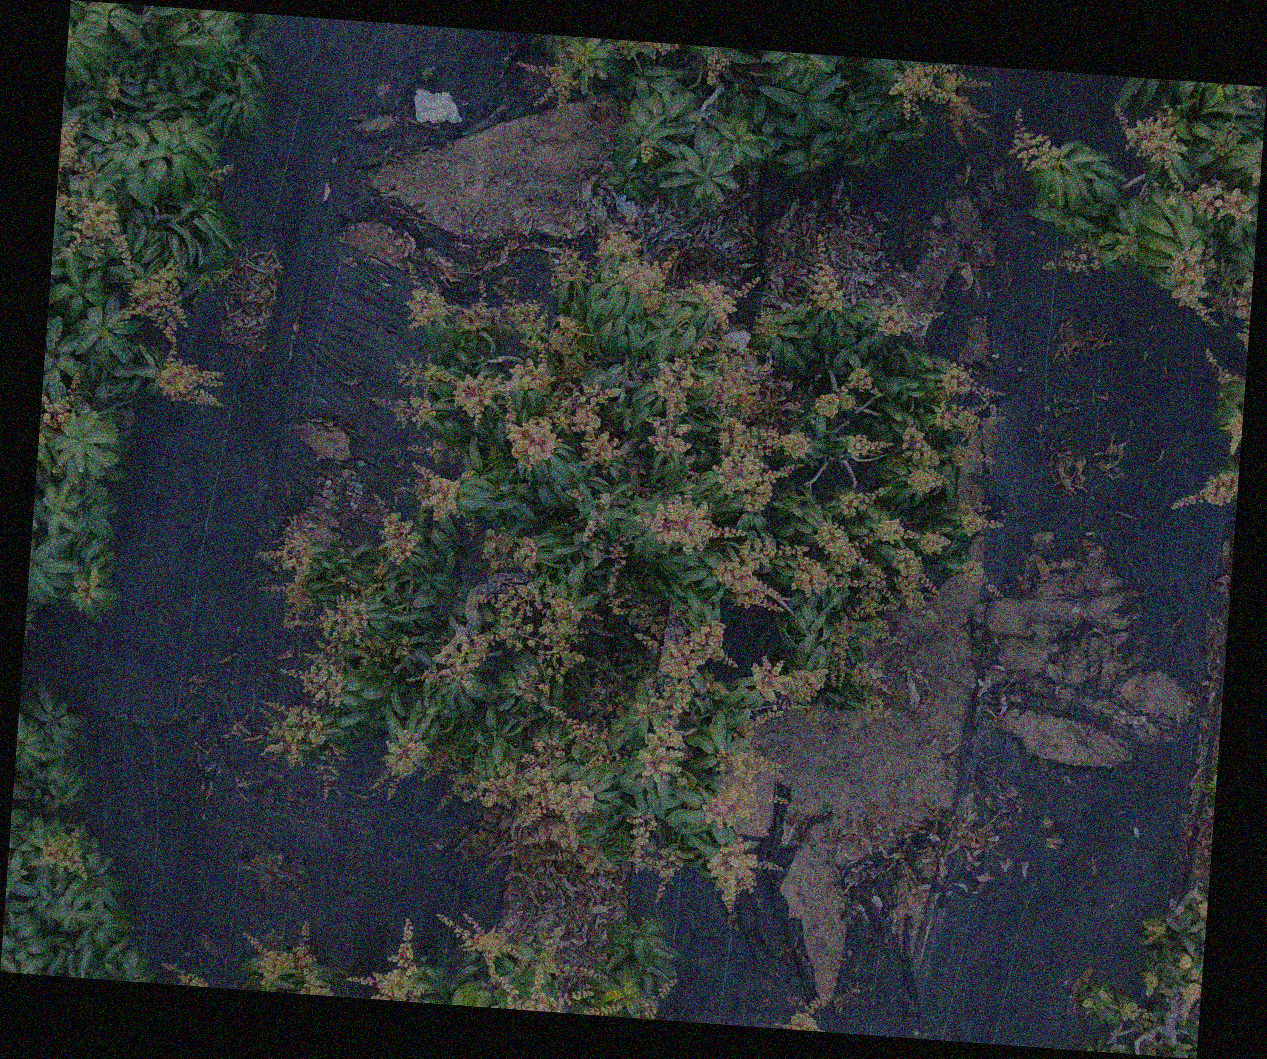flowers: (645, 338, 807, 511), (781, 517, 943, 685), (426, 573, 609, 700), (453, 363, 623, 469), (298, 584, 409, 708), (56, 120, 137, 266), (455, 740, 596, 822), (453, 926, 571, 1010), (888, 63, 989, 141), (242, 921, 343, 993), (350, 917, 426, 1000), (595, 232, 673, 311), (641, 494, 744, 553), (715, 538, 793, 610), (705, 750, 776, 830), (499, 289, 585, 355), (374, 730, 455, 799), (638, 680, 691, 782), (706, 838, 778, 912), (256, 532, 315, 620), (933, 363, 1003, 438), (660, 613, 736, 681), (627, 813, 684, 900), (126, 264, 188, 343), (434, 916, 531, 964), (549, 711, 624, 770), (1114, 107, 1188, 165), (406, 288, 496, 332), (265, 704, 326, 767), (750, 660, 826, 710), (1167, 247, 1216, 322), (687, 275, 755, 329), (815, 367, 882, 420), (159, 352, 224, 404), (609, 584, 668, 639), (1010, 109, 1061, 171), (901, 427, 946, 494), (516, 62, 579, 109), (1184, 180, 1254, 221), (869, 520, 950, 554), (37, 827, 89, 878), (40, 375, 77, 446), (413, 465, 461, 518), (812, 235, 846, 309), (59, 118, 93, 191), (481, 531, 538, 572), (380, 511, 420, 565), (876, 305, 939, 337), (369, 396, 435, 426), (551, 247, 587, 292), (958, 502, 1004, 536), (638, 977, 675, 1019), (839, 486, 886, 519), (1060, 242, 1102, 274), (1200, 469, 1236, 505), (614, 41, 679, 61), (584, 492, 609, 543), (1203, 349, 1240, 384), (407, 438, 458, 463), (1176, 954, 1202, 1001), (1234, 275, 1250, 349), (845, 435, 889, 461), (161, 963, 209, 985), (1212, 118, 1240, 157), (1029, 197, 1067, 224), (1221, 85, 1261, 109), (1140, 915, 1168, 946), (706, 49, 729, 86), (1222, 412, 1241, 454), (200, 266, 233, 291), (852, 662, 883, 687), (753, 309, 780, 338), (1114, 231, 1138, 261), (1121, 1001, 1153, 1022), (861, 694, 884, 719), (961, 560, 986, 583), (1140, 970, 1160, 997), (571, 42, 595, 65), (951, 445, 973, 467), (103, 75, 121, 100), (639, 138, 655, 163), (486, 445, 503, 466), (374, 561, 388, 579), (565, 488, 583, 501), (460, 469, 479, 480), (1198, 900, 1207, 919), (1253, 158, 1260, 186), (532, 34, 546, 43)
